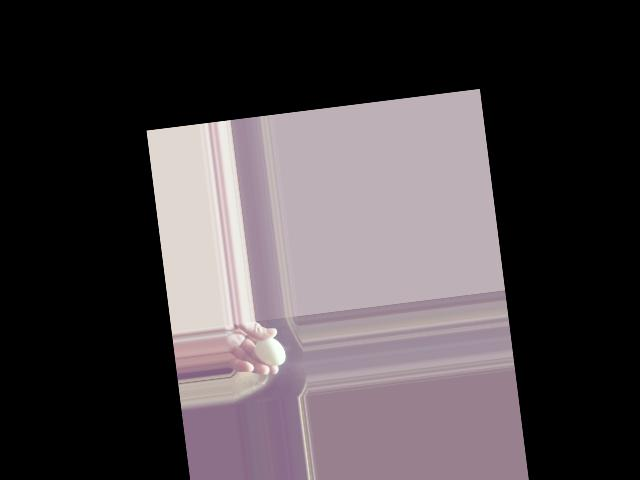egg: (253, 336, 286, 367)
